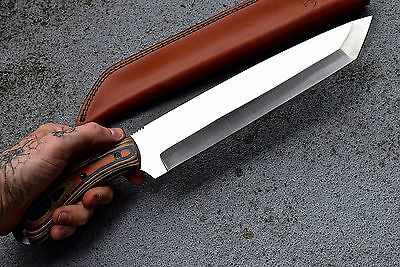knief: (23, 17, 384, 243)
